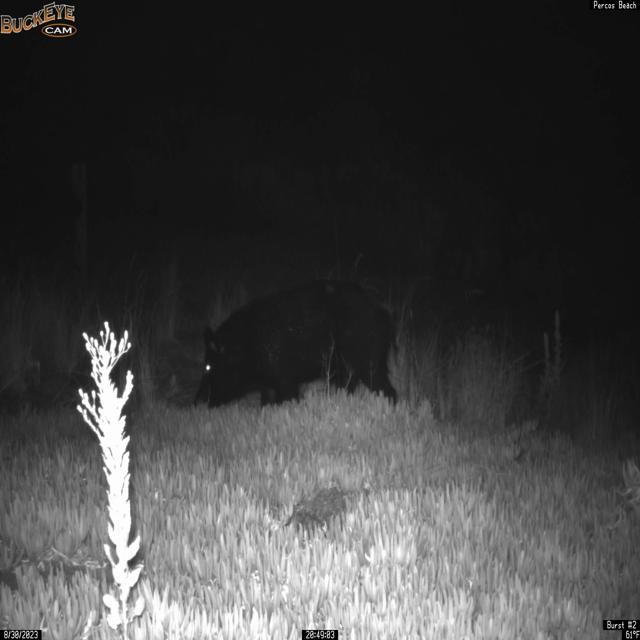pig: (192, 278, 400, 410)
